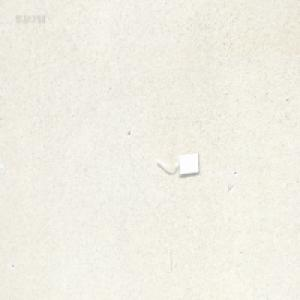LuggageTag: (155, 150, 199, 176)
